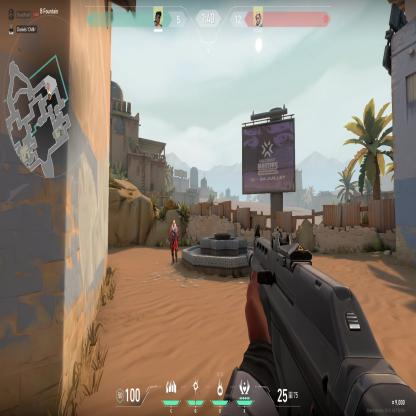enemy: (169, 218, 179, 266)
